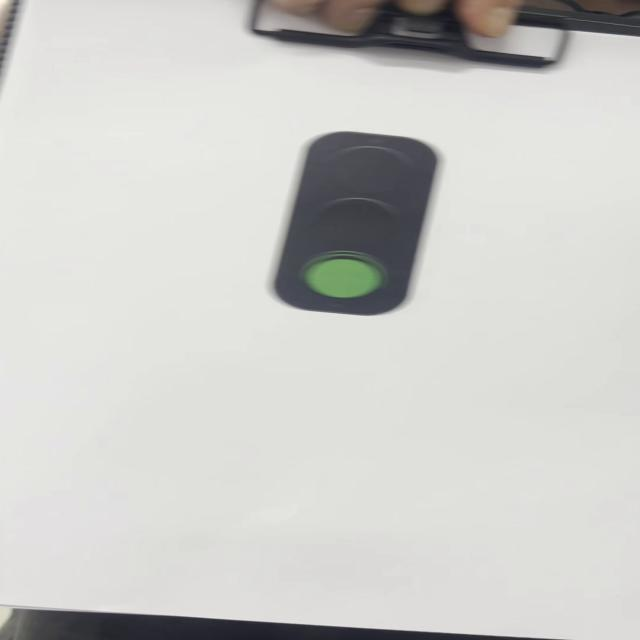green: (274, 132, 444, 318)
